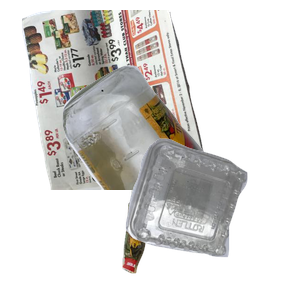glass: (60, 63, 300, 243)
paper: (19, 10, 223, 190)
plastic: (123, 136, 300, 300)
trash: (120, 131, 290, 300)
